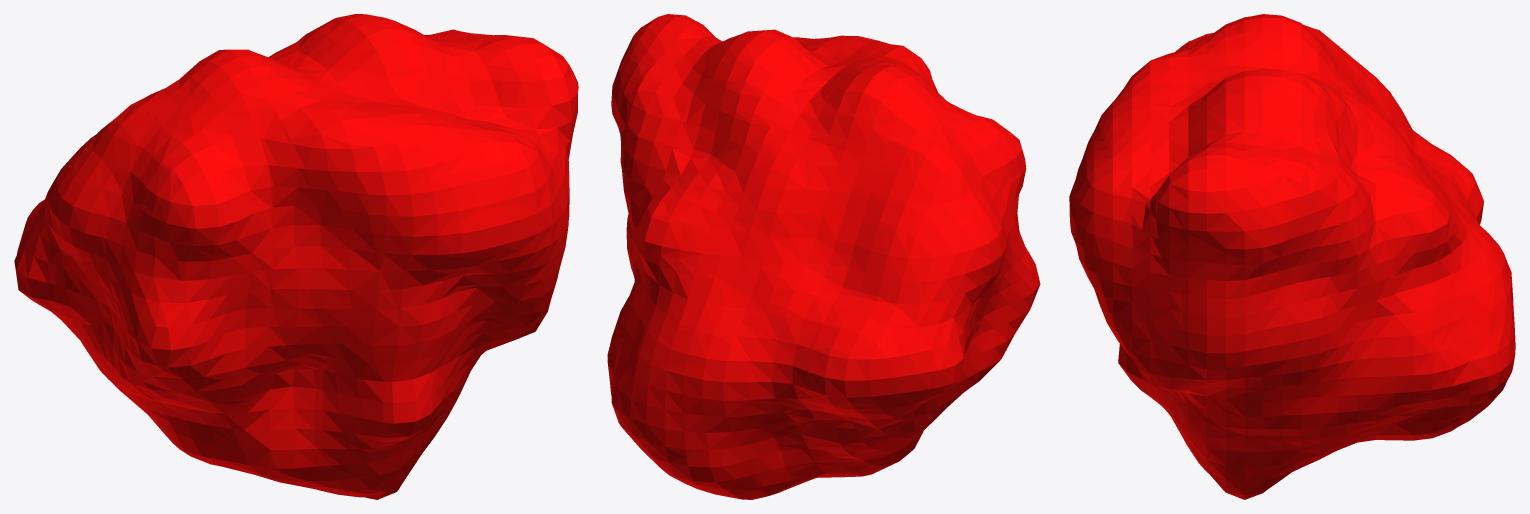
File: frmB_coarse.dae
3 views of the same model, side by side, from view 1: azimuth 30°, elevation 25°; view 2: azimuth 150°, elevation 25°; view 3: azimuth 270°, elevation 25° (orthographic). The views are drawn at different scales.
Parts seen in each view (by area): view 1: frmB; view 2: frmB; view 3: frmB.
Boxes of the visible parts, <box> form: frmB: <box>14,14,578,499</box>; frmB: <box>607,14,1040,499</box>; frmB: <box>1069,14,1515,499</box>.
Size of the model in its own units: 51.83 by 51.11 by 48.64.
